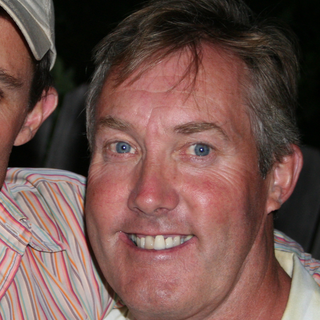eye: (177, 139, 222, 164), (103, 135, 143, 161)
